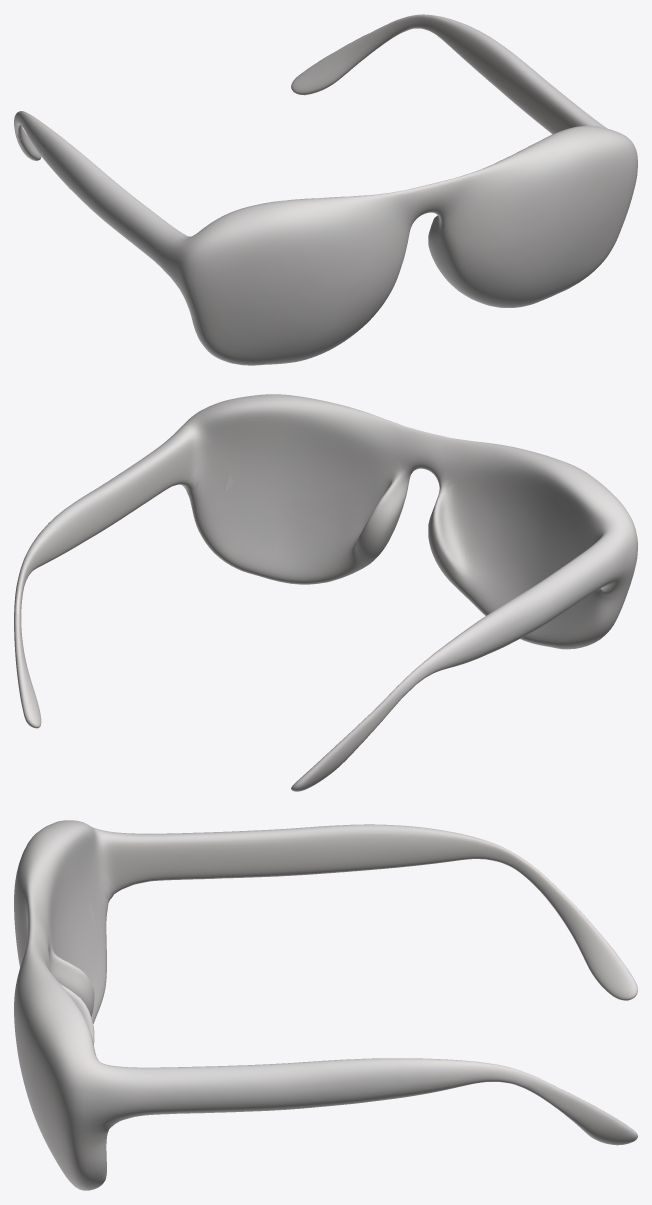
The model's file is base_basic_pbr.glb.
The picture shows the model from 3 angles, top to bottom: view 1: azimuth 30°, elevation 25°; view 2: azimuth 150°, elevation 25°; view 3: azimuth 270°, elevation 25°; orthographic projection. The views are drawn at different scales.
Parts seen in each view (by area): view 1: model; view 2: model; view 3: model.
Part boxes in pixels (<box>): model: <box>14,14,637,365</box>; model: <box>14,394,637,791</box>; model: <box>14,820,637,1190</box>.
Bounding box in the file's own units: 0.4165 × 0.15 × 0.438.
1 material, 1 textured.
